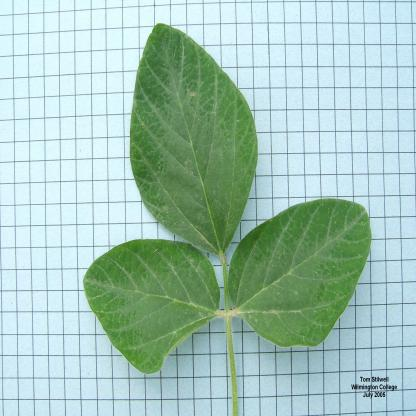Soyabean leaf: (128, 19, 258, 260), (228, 195, 373, 351), (81, 241, 221, 377)
